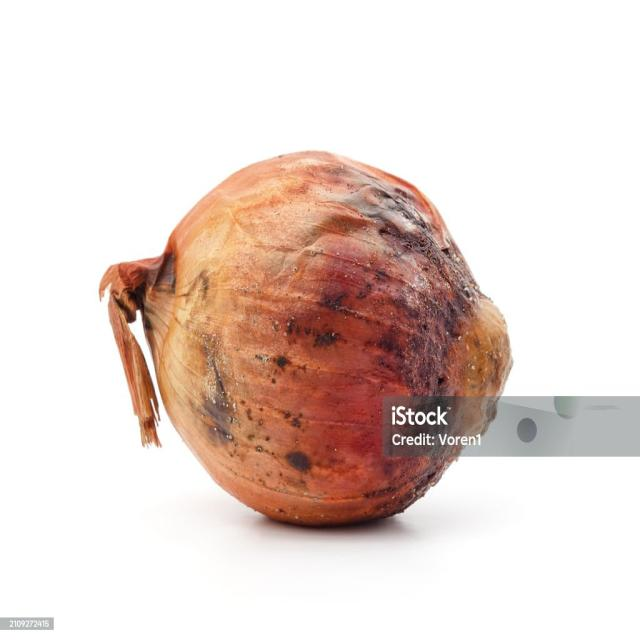rotten: (100, 152, 511, 525)
